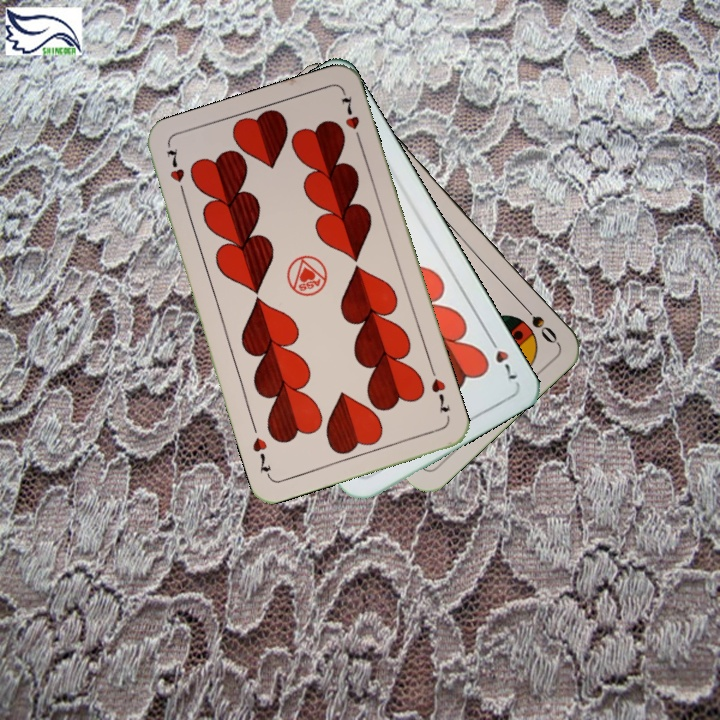H7: (483, 331, 521, 383), (162, 144, 189, 201), (427, 374, 453, 416)
SO: (516, 298, 561, 346)
